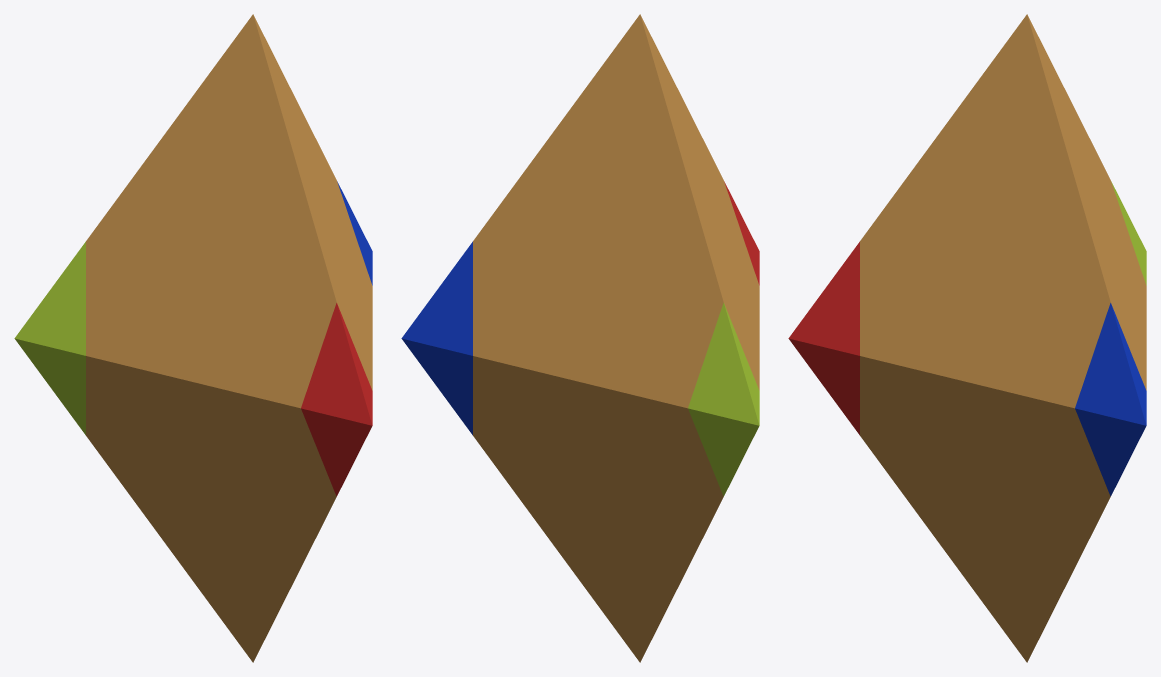
Rendered from crystal_riddle.glb.
3 views of the same model, side by side, from view 1: azimuth 30°, elevation 25°; view 2: azimuth 150°, elevation 25°; view 3: azimuth 270°, elevation 25° (orthographic).
Visible parts, largest first — view 1: base_top, base_bottom, 2, 1, b, a, 3; view 2: base_top, base_bottom, 1, 3, a, c, 2; view 3: base_top, base_bottom, 3, 2, c, b, 1.
Boxes of the visible parts, bbox=[...] form: base_top: bbox=[86, 14, 372, 408]; base_bottom: bbox=[86, 356, 336, 662]; 2: bbox=[301, 303, 372, 425]; 1: bbox=[14, 241, 85, 355]; b: bbox=[301, 408, 372, 496]; a: bbox=[15, 338, 85, 435]; 3: bbox=[337, 181, 372, 285]; base_top: bbox=[473, 14, 759, 408]; base_bottom: bbox=[473, 356, 723, 662]; 1: bbox=[688, 303, 759, 425]; 3: bbox=[401, 241, 472, 355]; a: bbox=[688, 408, 759, 496]; c: bbox=[402, 338, 472, 435]; 2: bbox=[724, 181, 759, 285]; base_top: bbox=[860, 14, 1146, 408]; base_bottom: bbox=[860, 356, 1110, 662]; 3: bbox=[1075, 303, 1146, 425]; 2: bbox=[788, 241, 859, 355]; c: bbox=[1075, 408, 1146, 496]; b: bbox=[789, 338, 859, 435]; 1: bbox=[1111, 181, 1146, 285].
Bounding box in the file's own units: 1.73 × 3 × 1.5.
